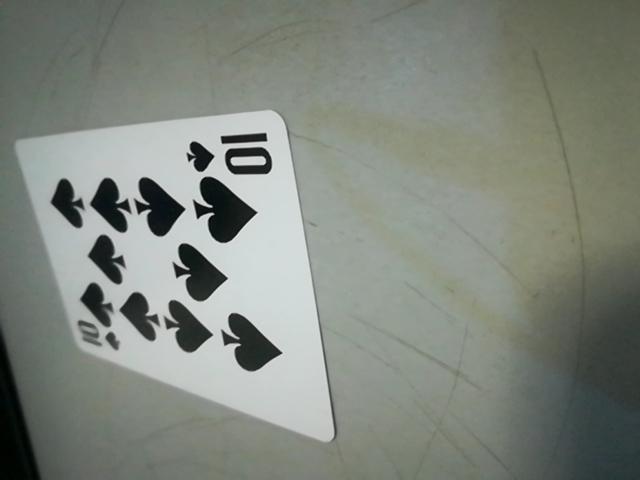ht 10: (186, 124, 274, 178)
